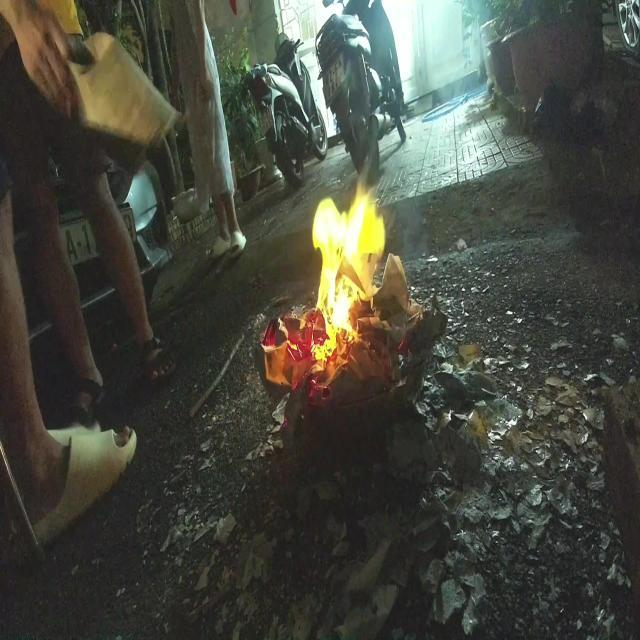Fire: (290, 180, 386, 380)
